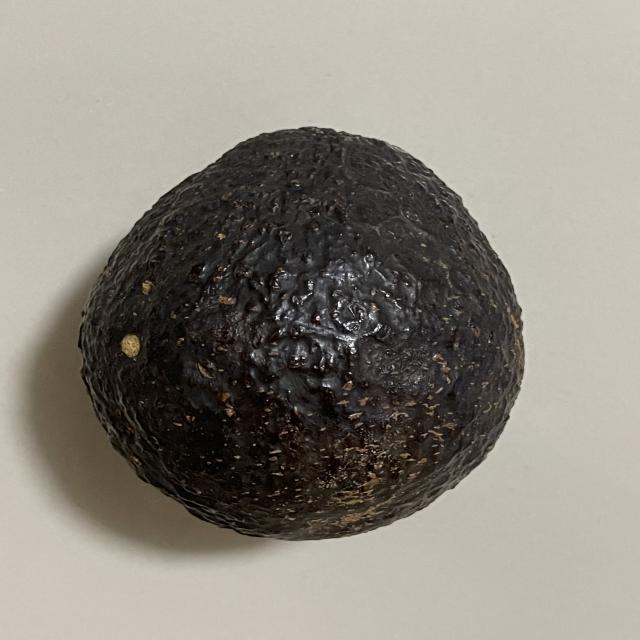Level4: (68, 114, 539, 550)
